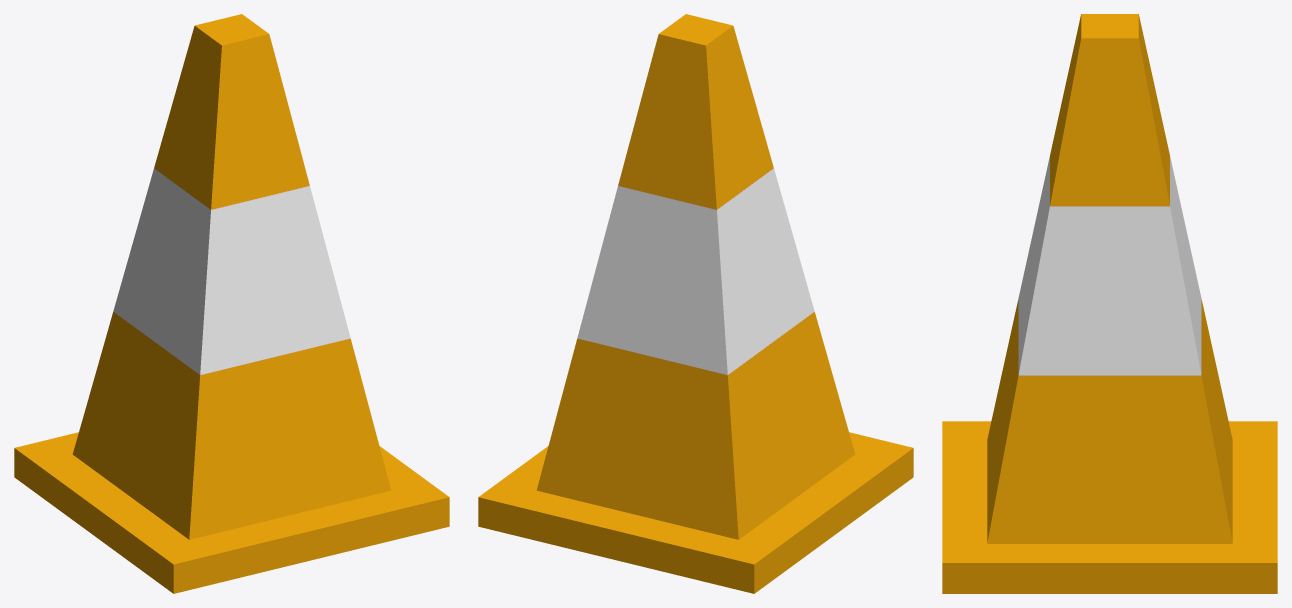
Rendered from Traffic_Cone.glb.
3 renders of one model, left to right at view 1: azimuth 30°, elevation 25°; view 2: azimuth 150°, elevation 25°; view 3: azimuth 270°, elevation 25°, orthographic. The views are drawn at different scales.
Parts seen in each view (by area): view 1: Trafficcone; view 2: Trafficcone; view 3: Trafficcone.
Part boxes in pixels (box(x1,y1,x2,y2)): Trafficcone: box(14, 14, 449, 593); Trafficcone: box(478, 14, 913, 593); Trafficcone: box(942, 14, 1277, 593).
Size of what is drawn, in the model's own units: 0.4043 by 0.6611 by 0.4043.
Materials: 1 (1 with a texture image).
